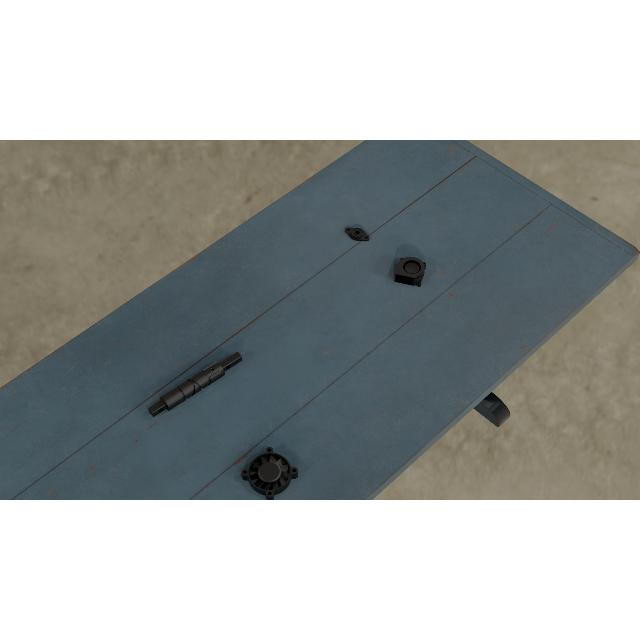Pieza1: (145, 346, 245, 422)
Pieza2: (342, 223, 372, 245)
Pieza3: (394, 254, 428, 288)
Pieza4: (240, 444, 300, 500)
